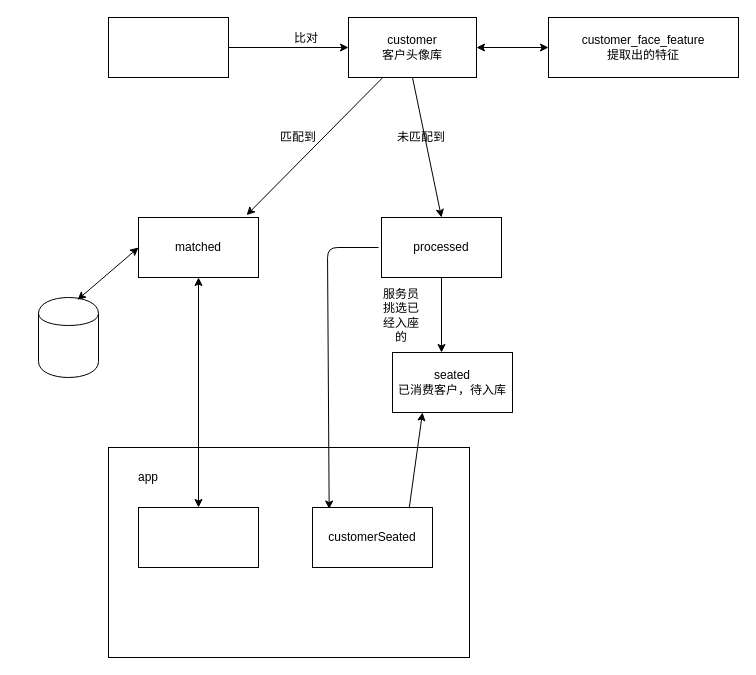
This 756x675 diagram has some shape labels left out. The shapes that lost their labels are listed below. From the top down, each one's centre as x and y in pixels, then its label:
the point at 168,47: captured
the point at 68,337: customer_matched
the point at 198,537: customerMatched
